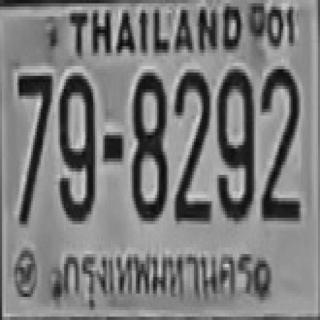N02: (259, 66, 298, 218), (174, 68, 210, 219)
N07: (15, 73, 50, 221), (15, 73, 50, 191)
N08: (130, 69, 165, 218)
N09: (215, 66, 252, 218), (58, 71, 95, 220)
P04: (55, 244, 257, 315)
